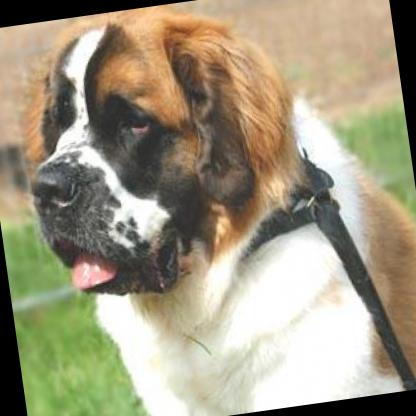Saint_Bernard: (2, 0, 416, 416)
